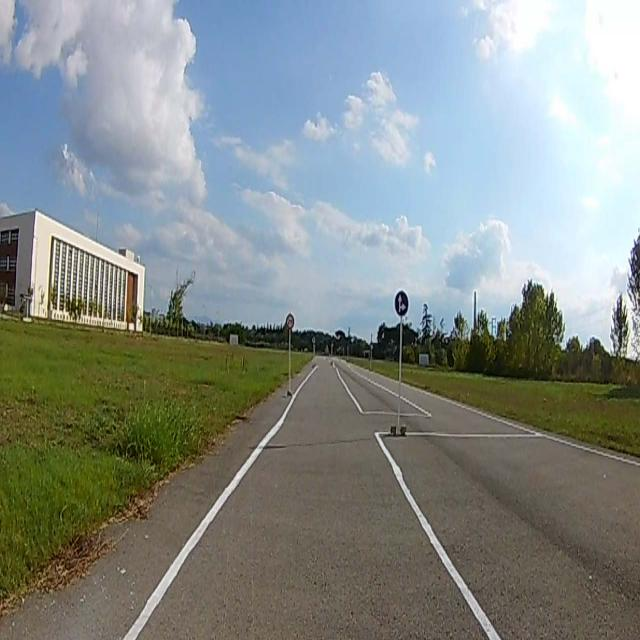ilerisag: (394, 292, 408, 314)
